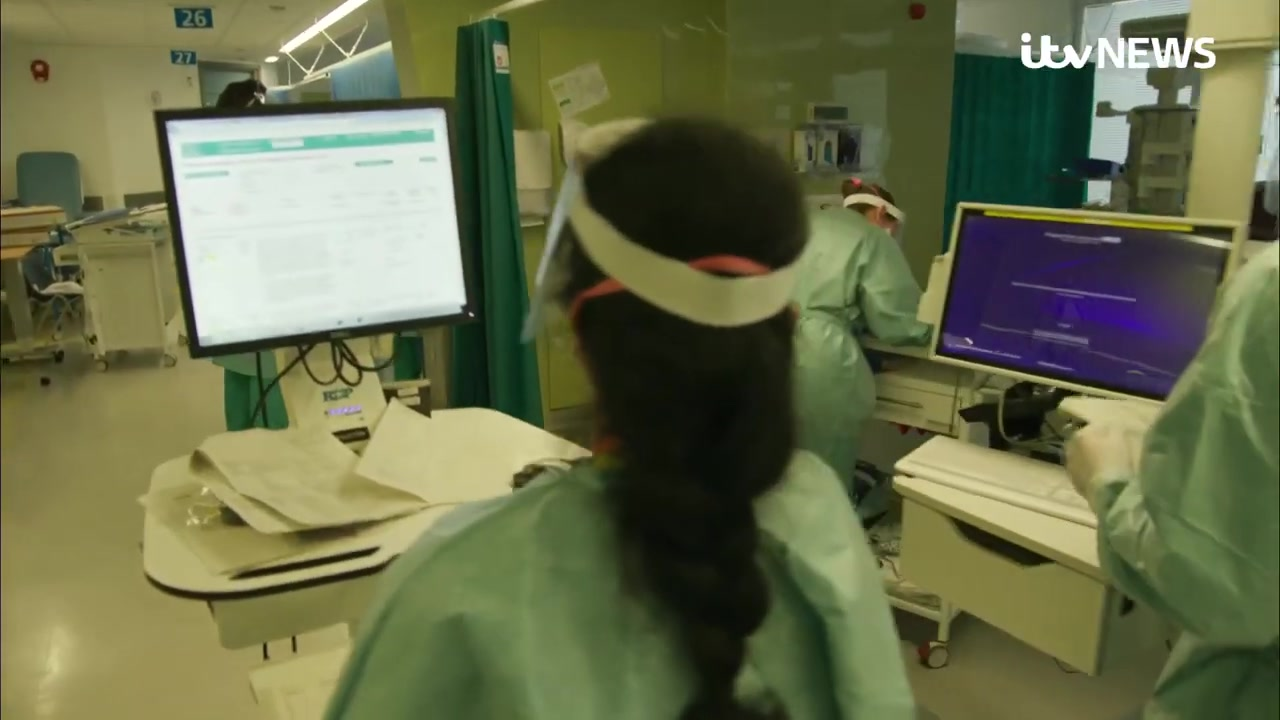chair: (19, 244, 92, 359), (12, 152, 89, 230)
computer: (152, 97, 482, 358), (917, 204, 1245, 410)
curtain: (436, 18, 544, 419), (944, 49, 1086, 205)
dispenser: (789, 128, 815, 173), (817, 129, 840, 173)
keyboard: (893, 434, 1108, 527)
staff: (308, 113, 918, 720), (1067, 208, 1280, 720), (790, 193, 927, 498)
utility_cart: (848, 331, 1004, 668), (81, 230, 177, 368)
